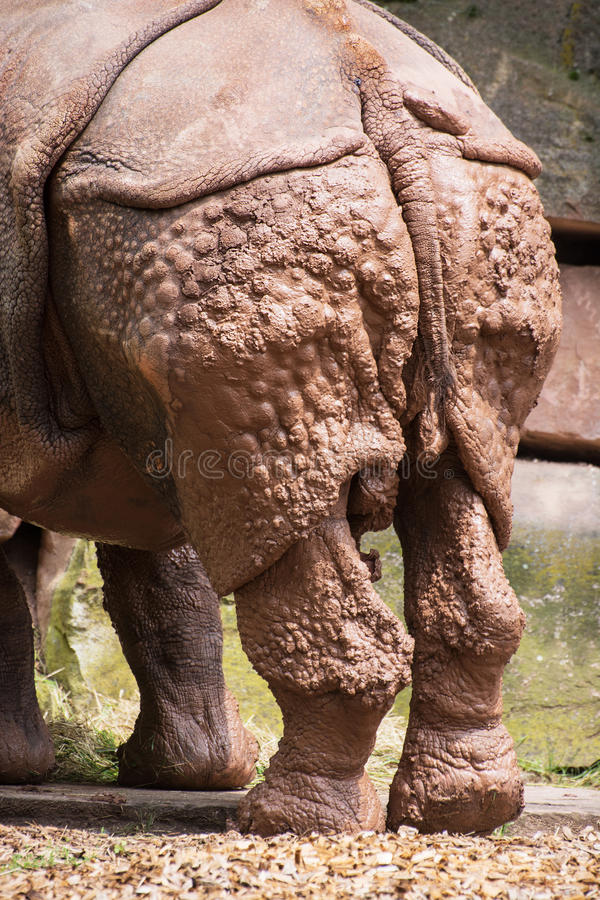rhinoceros: (1, 19, 566, 853)
